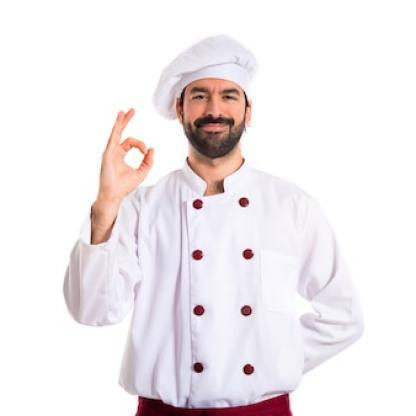ok: (95, 105, 158, 204)
